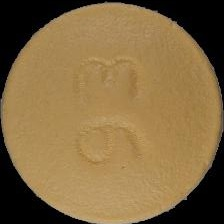16590-327: (0, 0, 224, 224)
